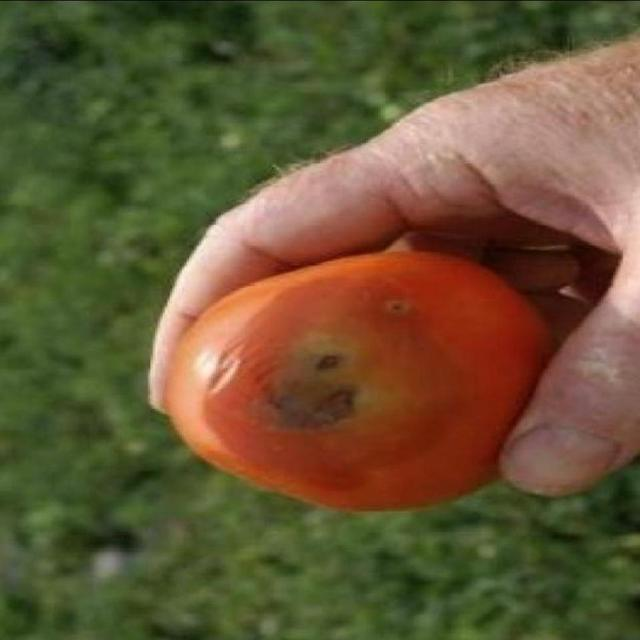Blossom End Rot Fruit: (22, 16, 263, 253)
